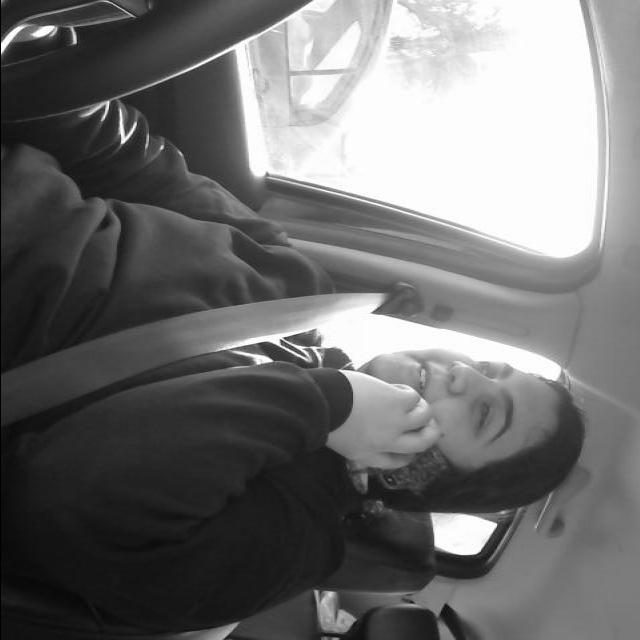mobile use: (346, 394, 458, 506)
